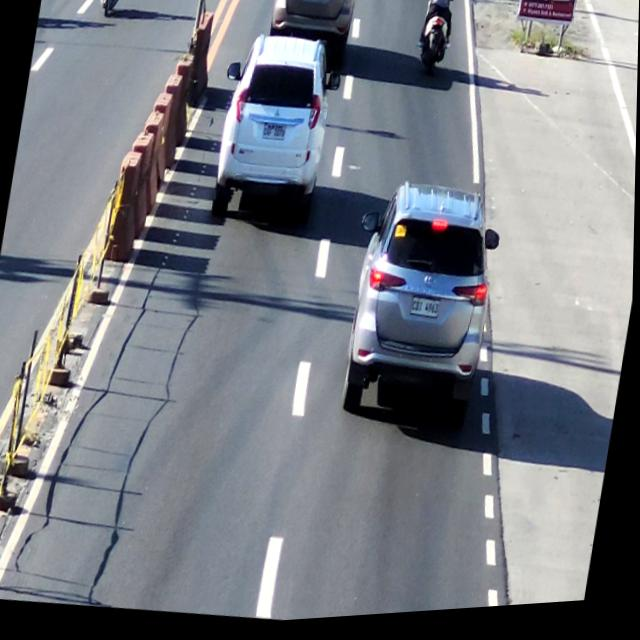Car: (347, 182, 508, 417), (213, 34, 340, 227), (268, 0, 353, 50)
License-Plate: (408, 297, 444, 330), (260, 120, 290, 150), (304, 0, 327, 9)
Motorcycle: (414, 0, 459, 81)
